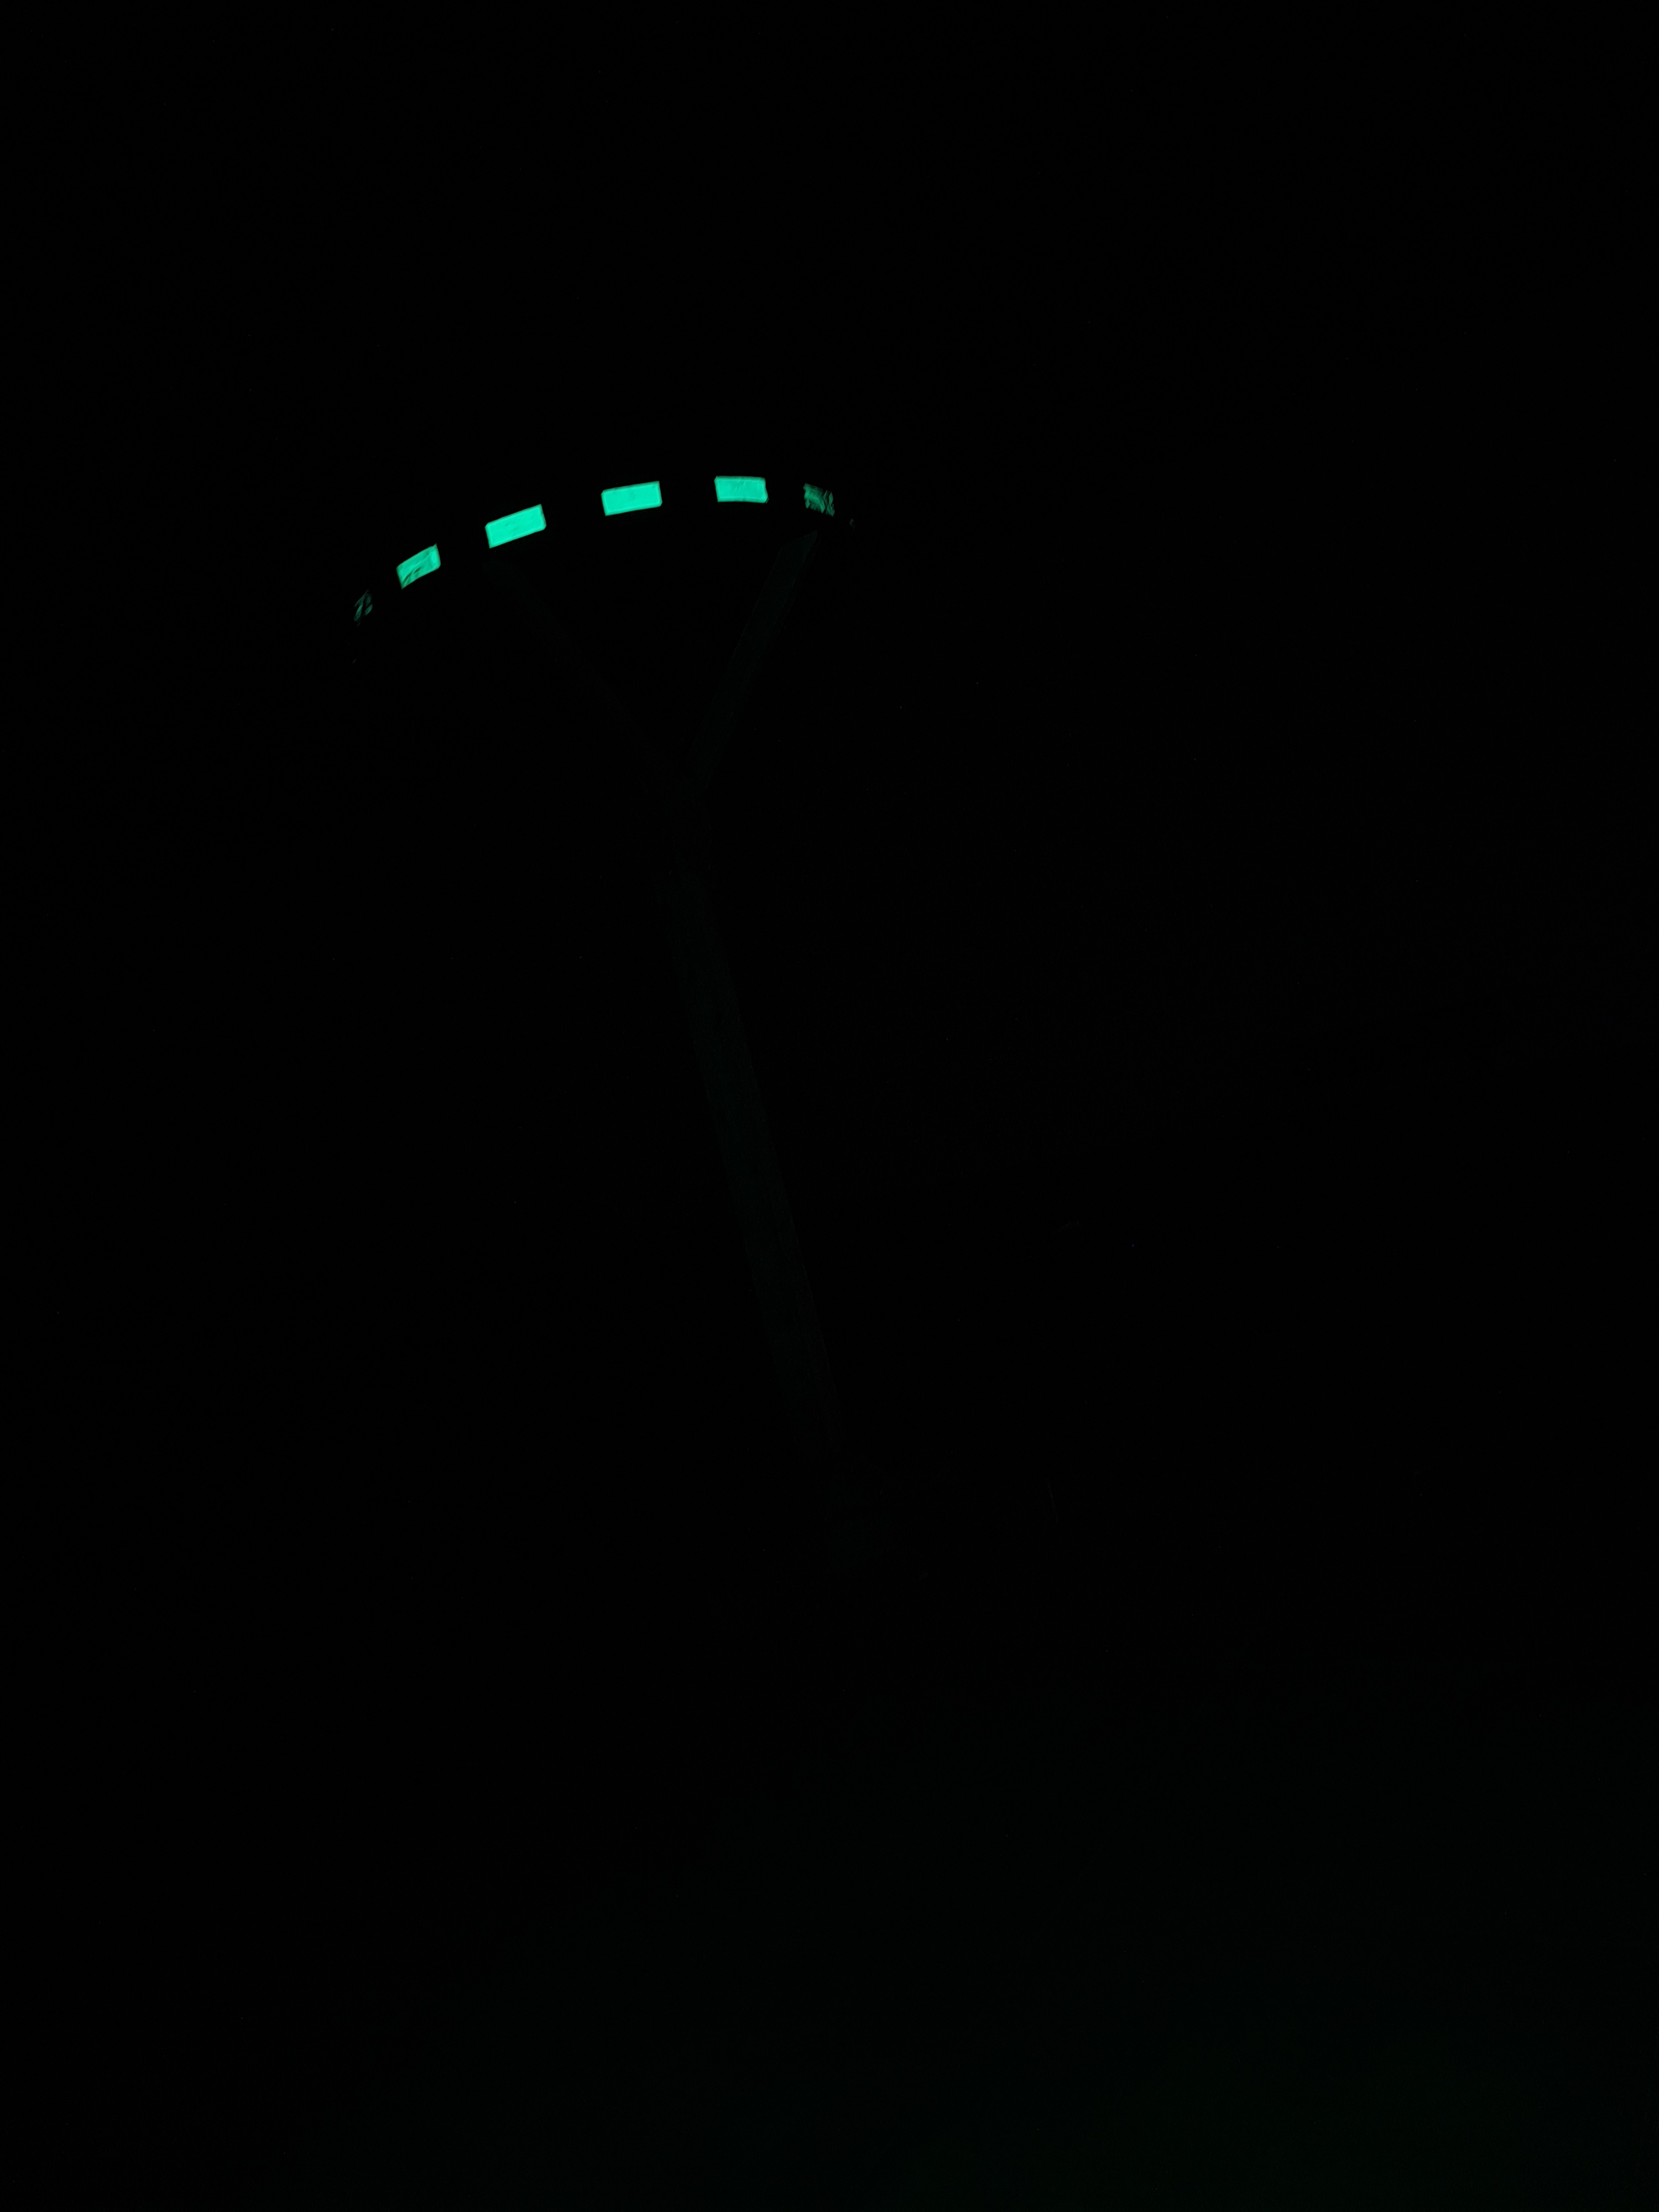hoop: (333, 472, 840, 629)
